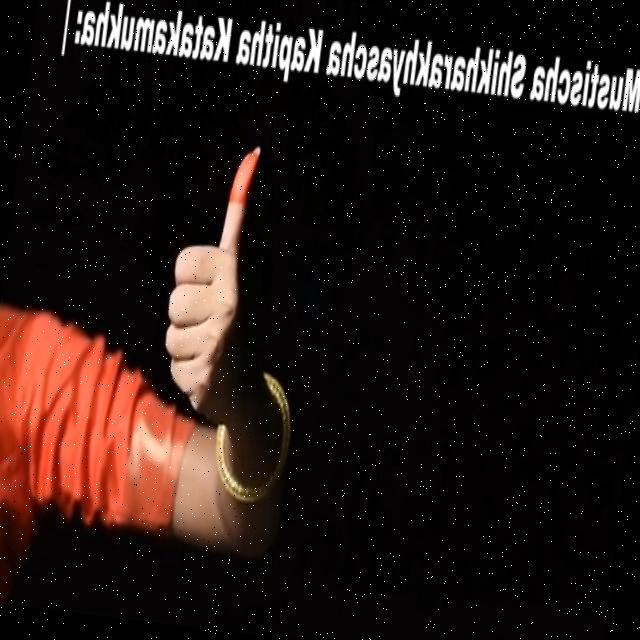Shikhara: (138, 122, 274, 432)
bangle: (205, 392, 308, 528)
text: (53, 0, 640, 137)
